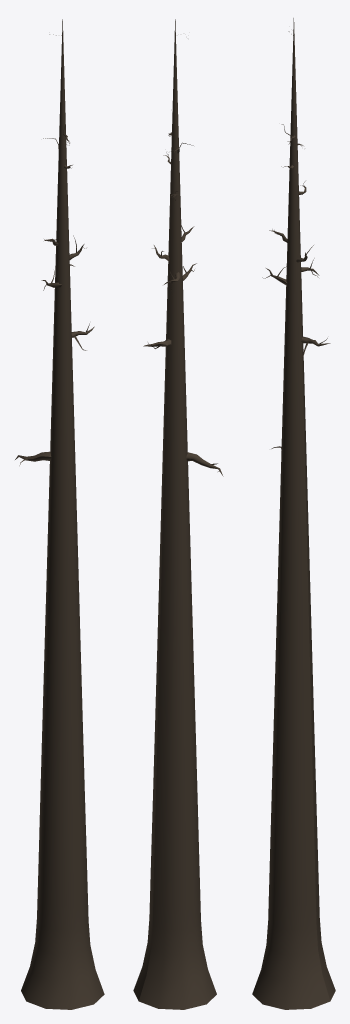
The model's file is RedwoodSnag_1.obj.
The picture shows the model from 3 angles, left to right: view 1: azimuth 30°, elevation 25°; view 2: azimuth 210°, elevation 25°; view 3: azimuth 330°, elevation 25°; orthographic projection.
Visible parts, largest first — view 1: RedwoodSnag_1; view 2: RedwoodSnag_1; view 3: RedwoodSnag_1.
Boxes of the visible parts, box(x1,y1,x2,y2) form: RedwoodSnag_1: box(15, 19, 104, 1009); RedwoodSnag_1: box(133, 19, 223, 1009); RedwoodSnag_1: box(252, 18, 335, 1009).
Size of the model in its own units: 7.8 by 100 by 7.53.
